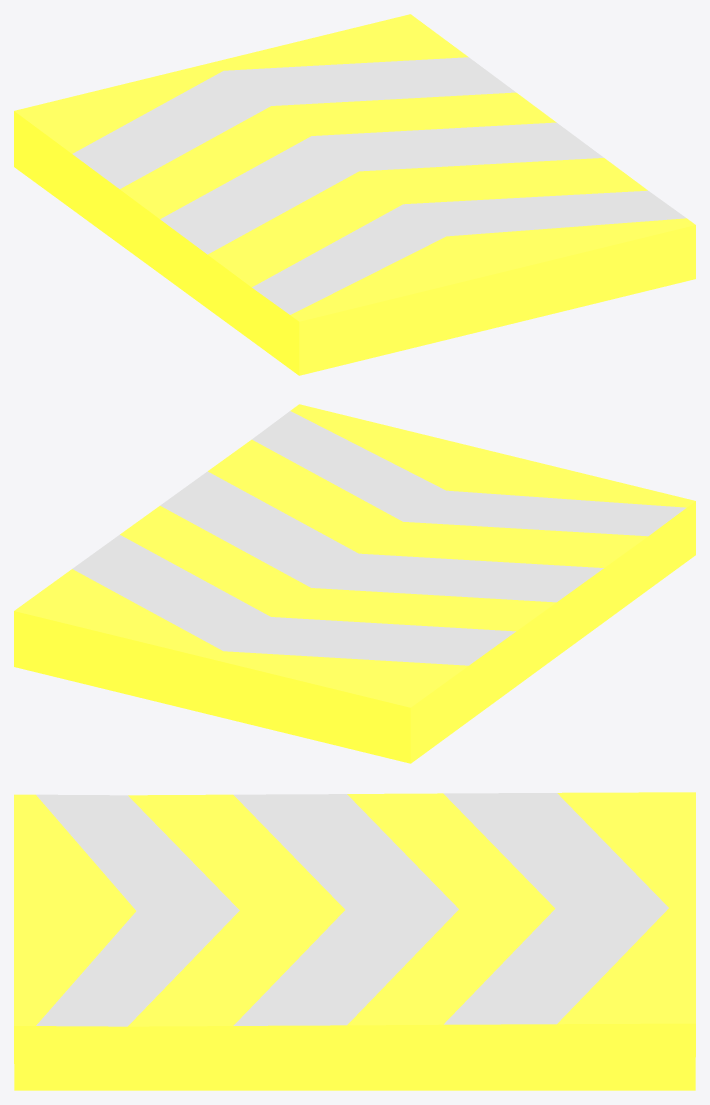
Rendered from rampa (1).fbx.
3 views of the same model, one above another, from view 1: azimuth 30°, elevation 25°; view 2: azimuth 150°, elevation 25°; view 3: azimuth 270°, elevation 25° (orthographic). The views are drawn at different scales.
Parts seen in each view (by area): view 1: Cube; view 2: Cube; view 3: Cube.
Part boxes in pixels (x1,y1,x2,y2): Cube: (14,14,695,375); Cube: (14,404,695,763); Cube: (14,792,695,1090).
Size of the model in its own units: 297 by 40.21 by 370.
